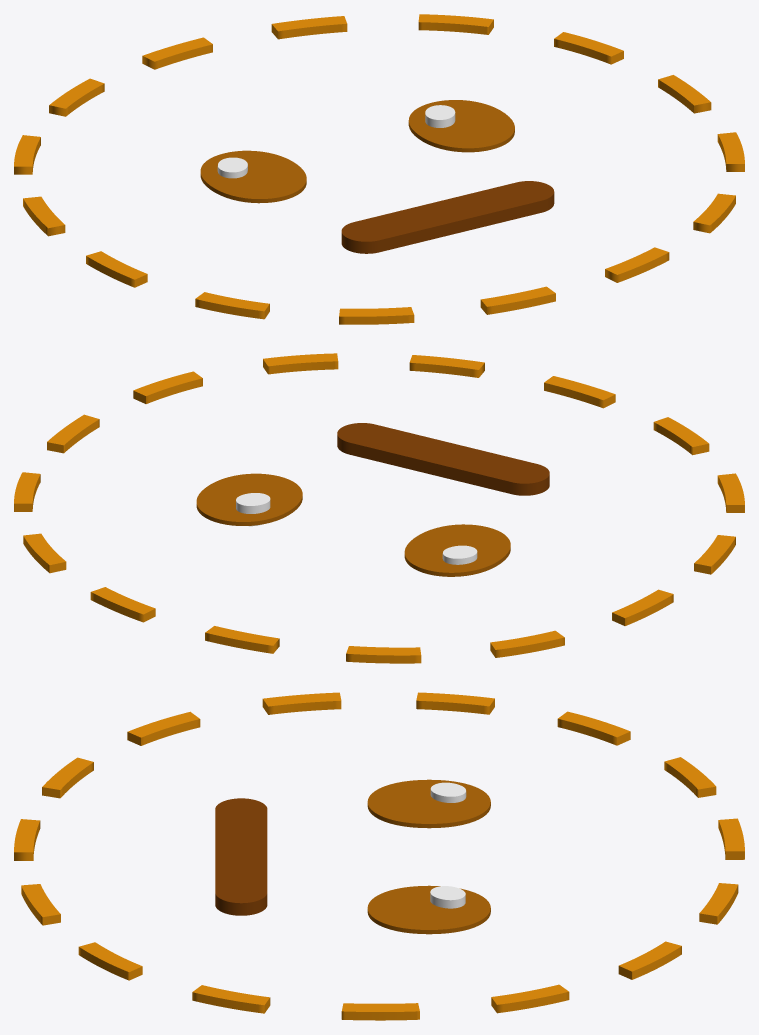
Rendered from emoji_u1fae5.glb.
3 views of the same model, one above another, from view 1: azimuth 30°, elevation 25°; view 2: azimuth 150°, elevation 25°; view 3: azimuth 270°, elevation 25° (orthographic). The views are drawn at different scales.
Parts seen in each view (by area): view 1: emoji_u1fae5; view 2: emoji_u1fae5; view 3: emoji_u1fae5.
Part boxes in pixels (<box>): emoji_u1fae5: <box>14,14,744,324</box>; emoji_u1fae5: <box>14,353,744,663</box>; emoji_u1fae5: <box>14,692,744,1020</box>.
Bounding box in the file's own units: 0.0326 × 0.001 × 0.0315.
